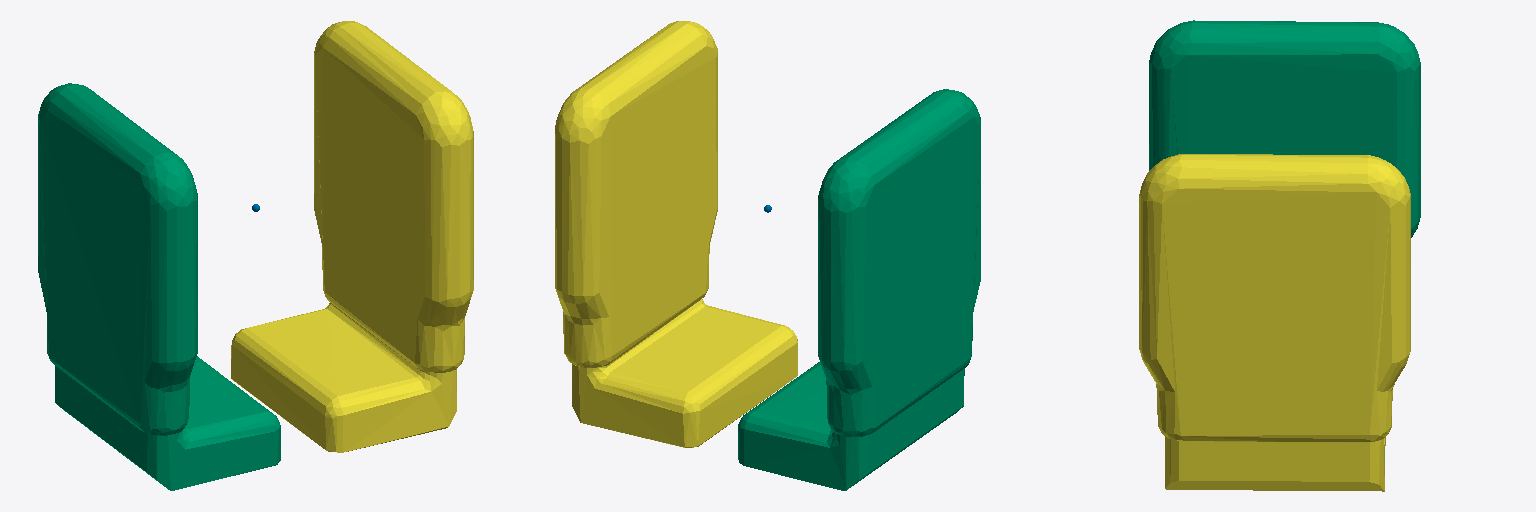
URDF robot description (iiwa7_0):
<?xml version="1.0" encoding="utf-8"?>
<!-- =================================================================================== -->
<!-- |    This document was autogenerated by xacro from iiwa7.urdf.xacro               | -->
<!-- |    EDITING THIS FILE BY HAND IS NOT RECOMMENDED                                 | -->
<!-- =================================================================================== -->
<robot name="iiwa7_0">
    <!-- Fix to world just for testing -->
    <link name="world"/>
    <!--joint between {parent} and link_0-->
    <joint name="lbr2_world_iiwa_joint" type="fixed">
        <origin xyz="0.3743 0.1816 0.7048" rpy="-0.0012 0.0001 -0.0158"/>
        <parent link="world"/>
        <child link="lbr2_link_0"/>
    </joint>
    <link name="lbr2_link_0">
        <visual>
            <origin rpy="0 0 0" xyz="0 0 0"/>
            <geometry>
                <mesh filename="urdfs/iiwa7_R/meshes/visual/base.dae"/>
            </geometry>
            
        </visual>
        <collision>
            <origin rpy="0 0 0" xyz="0 0 0"/>
            <geometry>
                <mesh filename="urdfs/iiwa7_R/meshes/collision/link_0.stl"/>
            </geometry>
        </collision>
    </link>
    <!-- joint between link_0 and link_1 -->
    <joint name="lbr2_A1" type="revolute">
        <parent link="lbr2_link_0"/>
        <child link="lbr2_link_1"/>
        <origin rpy="0 0 0" xyz="0 0 0.15"/>
        <axis xyz="0 0 1"/>
        <limit effort="300" lower="-2.96705972839" upper="2.96705972839" velocity="10"/>
        <safety_controller k_position="100" k_velocity="2" soft_lower_limit="-2.93215314335" soft_upper_limit="2.93215314335"/>
        <dynamics damping="0.5"/>
    </joint>
    <link name="lbr2_link_1">
        <visual>
            <origin rpy="0 0 0" xyz="0 0 0.0075"/>
            <geometry>
                <mesh filename="urdfs/iiwa7_R/meshes/visual/link1.dae"/>
            </geometry>
            
        </visual>
        <collision>
            <origin rpy="0 0 0" xyz="0 0 0.0075"/>
            <geometry>
                <mesh filename="urdfs/iiwa7_R/meshes/collision/link_1.stl"/>
            </geometry>
            
        </collision>
    </link>
    <joint name="lbr2_A2" type="revolute">
        <parent link="lbr2_link_1"/>
        <child link="lbr2_link_2"/>
        <origin rpy="1.57079632679   0 3.14159265359" xyz="0 0 0.19"/>
        <axis xyz="0 0 1"/>
        <limit effort="300" lower="-2.09439510239" upper="2.09439510239" velocity="10"/>
        <safety_controller k_position="100" k_velocity="2" soft_lower_limit="-2.05948851735" soft_upper_limit="2.05948851735"/>
        <dynamics damping="0.5"/>
    </joint>
    <link name="lbr2_link_2">
        <visual>
            <origin rpy="0 0 0" xyz="0 0 0"/>
            <geometry>
                <mesh filename="urdfs/iiwa7_R/meshes/visual/link2.dae"/>
            </geometry>
            
        </visual>
        <collision>
            <origin rpy="0 0 0" xyz="0 0 0"/>
            <geometry>
                <mesh filename="urdfs/iiwa7_R/meshes/collision/link_2.stl"/>
            </geometry>
            
        </collision>
    </link>
    <joint name="lbr2_A3" type="revolute">
        <parent link="lbr2_link_2"/>
        <child link="lbr2_link_3"/>
        <origin rpy="1.57079632679 0 3.14159265359" xyz="0 0.21 0"/>
        <axis xyz="0 0 1"/>
        <limit effort="300" lower="-2.96705972839" upper="2.96705972839" velocity="10"/>
        <safety_controller k_position="100" k_velocity="2" soft_lower_limit="-2.93215314335" soft_upper_limit="2.93215314335"/>
        <dynamics damping="0.5"/>
    </joint>
    <link name="lbr2_link_3">
        <visual>
            <origin rpy="0 0 0" xyz="0 0 -0.026"/>
            <geometry>
                <mesh filename="urdfs/iiwa7_R/meshes/visual/link3.dae"/>
            </geometry>
            
        </visual>
        <collision>
            <origin rpy="0 0 0" xyz="0 0 -0.026"/>
            <geometry>
                <mesh filename="urdfs/iiwa7_R/meshes/collision/link_3.stl"/>
            </geometry>
            
        </collision>
    </link>
    <joint name="lbr2_A4" type="revolute">
        <parent link="lbr2_link_3"/>
        <child link="lbr2_link_4"/>
        <origin rpy="1.57079632679 0 0" xyz="0 0 0.19"/>
        <axis xyz="0 0 1"/>
        <limit effort="300" lower="-2.09439510239" upper="2.09439510239" velocity="10"/>
        <safety_controller k_position="100" k_velocity="2" soft_lower_limit="-2.05948851735" soft_upper_limit="2.05948851735"/>
        <dynamics damping="0.5"/>
    </joint>
    <link name="lbr2_link_4">
        <visual>
            <origin rpy="0 0 0" xyz="0 0 0"/>
            <geometry>
                <mesh filename="urdfs/iiwa7_R/meshes/visual/link4.dae"/>
            </geometry>
            
        </visual>
        <collision>
            <origin rpy="0 0 0" xyz="0 0 0"/>
            <geometry>
                <mesh filename="urdfs/iiwa7_R/meshes/collision/link_4.stl"/>
            </geometry>
            
        </collision>
    </link>
    <joint name="lbr2_A5" type="revolute">
        <parent link="lbr2_link_4"/>
        <child link="lbr2_link_5"/>
        <origin rpy="-1.57079632679 3.14159265359 0" xyz="0 0.21 0"/>
        <axis xyz="0 0 1"/>
        <limit effort="300" lower="-2.96705972839" upper="2.96705972839" velocity="10"/>
        <safety_controller k_position="100" k_velocity="2" soft_lower_limit="-2.93215314335" soft_upper_limit="2.93215314335"/>
        <dynamics damping="0.5"/>
    </joint>
    <link name="lbr2_link_5">
        <visual>
            <origin rpy="0 0 0" xyz="0 0 -0.026"/>
            <geometry>
                <mesh filename="urdfs/iiwa7_R/meshes/visual/link5.dae"/>
            </geometry>
            
        </visual>
        <collision>
            <origin rpy="0 0 0" xyz="0 0 -0.026"/>
            <geometry>
                <mesh filename="urdfs/iiwa7_R/meshes/collision/link_5.stl"/>
            </geometry>
            
        </collision>
    </link>
    <joint name="lbr2_A6" type="revolute">
        <parent link="lbr2_link_5"/>
        <child link="lbr2_link_6"/>
        <origin rpy="1.57079632679 0 0" xyz="0 0.06070 0.19"/>
        <axis xyz="0 0 1"/>
        <limit effort="300" lower="-2.09439510239" upper="2.09439510239" velocity="10"/>
        <safety_controller k_position="100" k_velocity="2" soft_lower_limit="-2.05948851735" soft_upper_limit="2.05948851735"/>
        <dynamics damping="0.5"/>
    </joint>
    <link name="lbr2_link_6">
        <visual>
            <origin rpy="0 0 0" xyz="0 0 0"/>
            <geometry>
                <mesh filename="urdfs/iiwa7_R/meshes/visual/link6.dae"/>
            </geometry>
            
        </visual>
        <collision>
            <origin rpy="0 0 0" xyz="0 0 0"/>
            <geometry>
                <mesh filename="urdfs/iiwa7_R/meshes/collision/link_6.stl"/>
            </geometry>
            
        </collision>
    </link>
    <joint name="lbr2_A7" type="revolute">
        <parent link="lbr2_link_6"/>
        <child link="lbr2_link_7"/>
        <origin rpy="-1.57079632679 3.14159265359 0" xyz="0 0.081 0.06070"/>
        <axis xyz="0 0 1"/>
        <limit effort="300" lower="-3.05432619099" upper="3.05432619099" velocity="10"/>
        <safety_controller k_position="100" k_velocity="2" soft_lower_limit="-3.01941960595" soft_upper_limit="3.01941960595"/>
        <dynamics damping="0.5"/>
    </joint>
    <link name="lbr2_link_7">
        <inertial>
            <origin rpy="0 0 0" xyz="0 0 0.02"/>
            <mass value="3.129"/>
            <inertia ixx="0.01464" ixy="0.0005912" ixz="0" iyy="0.01465" iyz="0" izz="0.002872"/>
        </inertial>
        <visual>
            <origin rpy="0 0 0" xyz="0 0 -0.0005"/>
            <geometry>
                <mesh filename="urdfs/iiwa7_R/meshes/visual/link7.dae"/>
            </geometry>
            
        </visual>
        <collision>
            <origin rpy="0 0 0" xyz="0 0 -0.0005"/>
            <geometry>
                <mesh filename="urdfs/iiwa7_R/meshes/collision/link_7.stl"/>
            </geometry>
            
        </collision>
    </link>
        <!-- end effector without gripper -->
    <joint name="lbr2_joint_ee" type="fixed">
        <parent link="lbr2_link_7"/>
        <child link="lbr2_link_gripper"/>
        <origin rpy="0.0 0.0 0.0" xyz="0.0 0.0 0.105"/>
    </joint>

    <!-- weight ,CoG and TCP can be obtained from onrobot web application CoG/TCP -->
    <link name="lbr2_link_gripper">
        <inertial>
            <origin rpy="0 0 0" xyz="0 0 0"/>
            <mass value="1.2"/>
            <inertia ixx="0.00219" ixy="0" ixz="0" iyy="0.00219" iyz="0" izz="0.0015"/>
        </inertial>
        <visual>
            <origin rpy="0 0 0" xyz="0 0 0"/>
            <geometry>
                <mesh filename="urdfs/iiwa7_R/meshes/collision/lbr2_gripper_blender.stl"/>
            </geometry>
        </visual>
        <collision>
            <origin rpy="0 0 0" xyz="0 0 0"/>
            <geometry>
                <mesh filename="urdfs/iiwa7_R/meshes/collision/lbr2_gripper_blender.stl"/>
            </geometry>
        </collision>
    </link>
    <joint name="lbr2_right_finger_joint" type="fixed">
        <origin rpy="0 0 0" xyz="-0.012 0 0.061"/>
        <parent link="lbr2_link_gripper"/>
        <child link="lbr2_right_finger_link"/>
    </joint>
    <joint name="lbr2_left_finger_joint" type="fixed">
        <origin rpy="0 0 0" xyz="0.012 0 0.061"/>
        <parent link="lbr2_link_gripper"/>
        <child link="lbr2_left_finger_link"/>
    </joint>

    <link name="lbr2_right_finger_link">
        <visual>
            <origin rpy="0 0 0" xyz="0 0 0"/>
            <geometry>
                <mesh filename="urdfs/iiwa7_R/meshes/onrobot_2fg7/2fg7_gripper_right.stl"/>
            </geometry>
        </visual>
        <collision name="lbr2_right_finger_collision">
            <origin rpy="0 0 0" xyz="0 0 0"/>
            <geometry>
                <mesh filename="urdfs/iiwa7_R/meshes/onrobot_2fg7/2fg7_gripper_right.stl"/>
            </geometry>
        </collision>
    </link>
    <link name="lbr2_left_finger_link">
        <visual>
            <origin rpy="0 0 0" xyz="0 0 0"/>
            <geometry>
                <mesh filename="urdfs/iiwa7_R/meshes/onrobot_2fg7/2fg7_gripper_left.stl"/>
            </geometry>
        </visual>
        <collision name="lbr2_left_finger_collision">
            <origin rpy="0 0 0" xyz="0 0 0"/>
            <geometry>
                <mesh filename="urdfs/iiwa7_R/meshes/onrobot_2fg7/2fg7_gripper_left.stl"/>
            </geometry>
        </collision>
    </link>
    <joint name="lbr2_true_ee_joint" type="fixed">
        <parent link="lbr2_left_finger_link"/>
        <child link="lbr2_true_ee_link"/>
        <origin rpy="0 0 0" xyz="-0.012 0 0.03"/>
    </joint>
    <link name="lbr2_true_ee_link">
        <inertial>
            <origin xyz="0 0 0" rpy="0 0 0"/>
            <mass value="0.001"/>
            <inertia ixx="1e-6" ixy="0" ixz="0" iyy="1e-6" iyz="0" izz="1e-6"/>
        </inertial>
        <visual>
            <origin xyz="0 0 0" rpy="0 0 0"/>
            <geometry>
                <mesh filename="urdfs/iiwa7_R/meshes/collision/small_ball.stl"/>
            </geometry>
        </visual>
        <collision>
            <origin xyz="0 0 0" rpy="0 0 0"/>
            <geometry>
                <mesh filename="urdfs/iiwa7_R/meshes/collision/small_ball.stl"/>
            </geometry>
        </collision>
    </link>
</robot>

--- Facts derived from the render (not from the file) ---
Views: 3 orthographic renders of the robot side by side, from view 1: azimuth 30°, elevation 25°; view 2: azimuth 150°, elevation 25°; view 3: azimuth 270°, elevation 25°.
Robot: iiwa7_0 — 13 links, 12 joints (7 revolute, 5 fixed); root link world; default pose: all joints at 0.
Links seen in each view (by area): view 1: lbr2_left_finger_link, lbr2_right_finger_link; view 2: lbr2_left_finger_link, lbr2_right_finger_link; view 3: lbr2_left_finger_link, lbr2_right_finger_link.
Link boxes in pixels (left/top/right/bottom): lbr2_left_finger_link: left=231, top=21, right=473, bottom=452; lbr2_right_finger_link: left=38, top=83, right=280, bottom=490; lbr2_left_finger_link: left=555, top=21, right=797, bottom=447; lbr2_right_finger_link: left=738, top=89, right=980, bottom=490; lbr2_left_finger_link: left=1139, top=154, right=1410, bottom=491; lbr2_right_finger_link: left=1149, top=20, right=1420, bottom=237.
Bounding box of the posed robot: 0.0466 × 0.0352 × 0.046 m (x, y, z).
Meshes: 12 distinct files referenced, 3 mesh visuals loaded (3 binary STL); not drawn: 9 (reference not matched to a file when rendering).